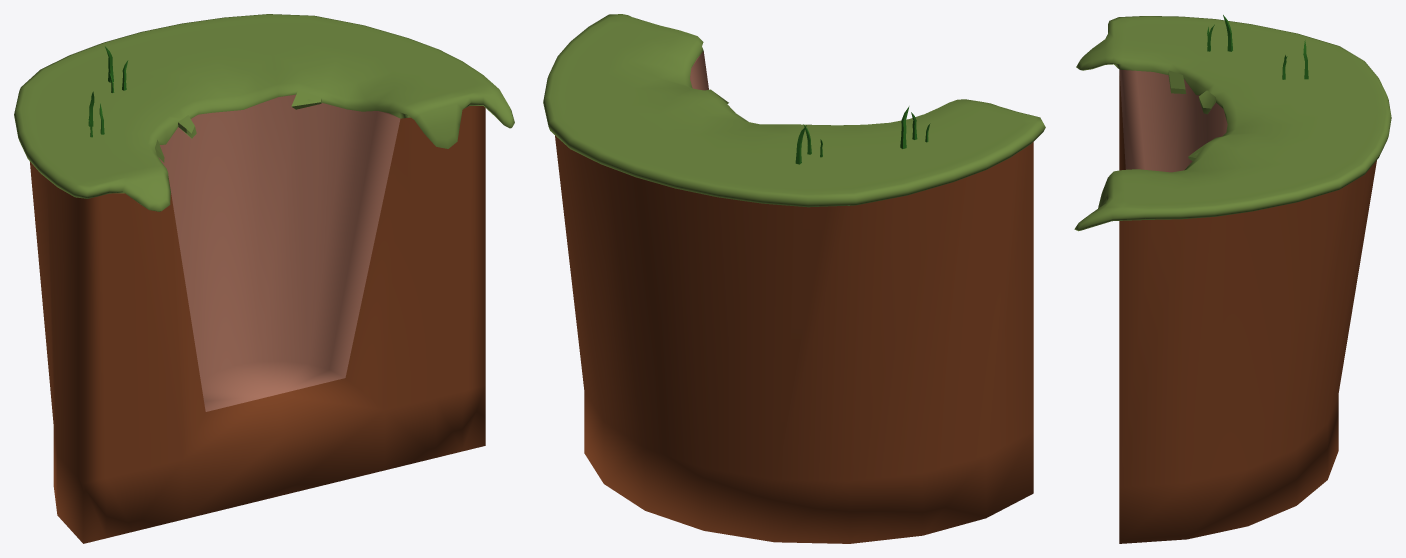
Rendered from Pit.fbx.
3 views of the same model, side by side, from view 1: azimuth 30°, elevation 25°; view 2: azimuth 150°, elevation 25°; view 3: azimuth 270°, elevation 25° (orthographic). The views are drawn at different scales.
Parts seen in each view (by area): view 1: pCube7; view 2: pCube7; view 3: pCube7.
Part boxes in pixels (x1,y1,x2,y2): pCube7: (14,14,514,543); pCube7: (543,14,1045,543); pCube7: (1074,15,1391,543).
Bounding box in the file's own units: 15.15 × 13.4 × 10.29.
